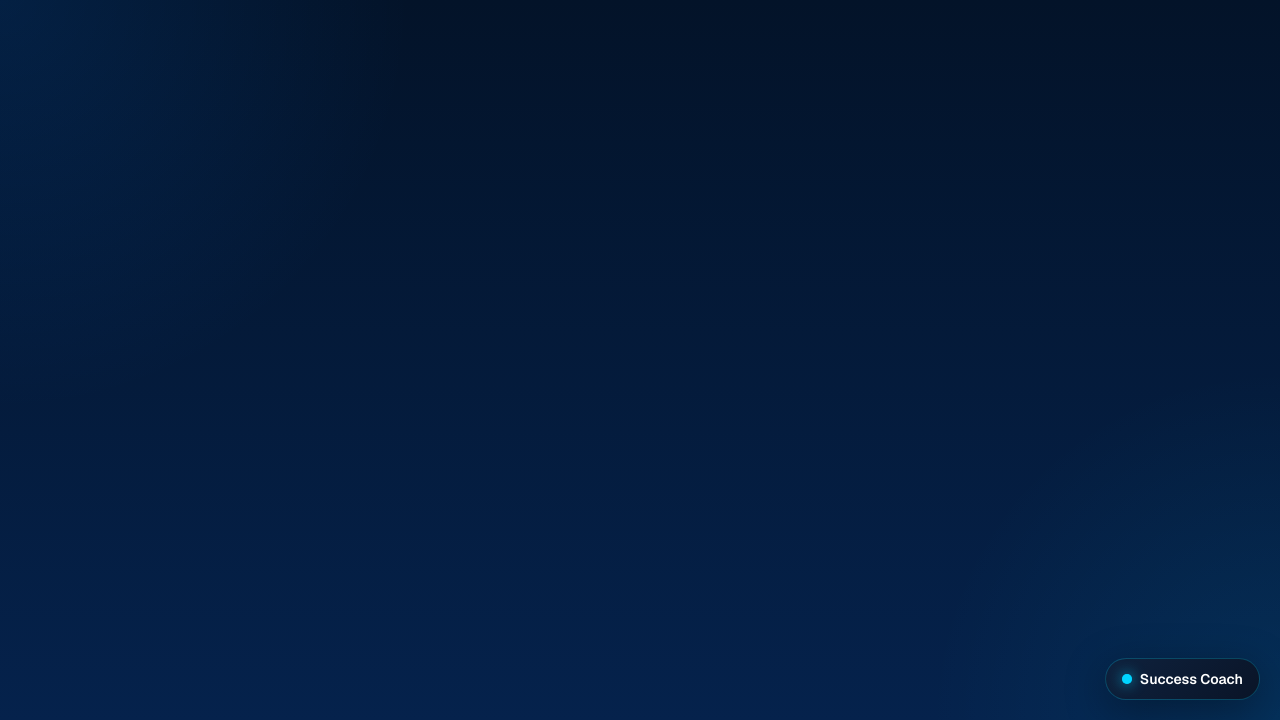
SuccessCoachDock › shows a friendly error with retry, and never sends the error text back to the model
Click the button "Success Coach" at (1182, 679), box [1105, 658, 1260, 700]
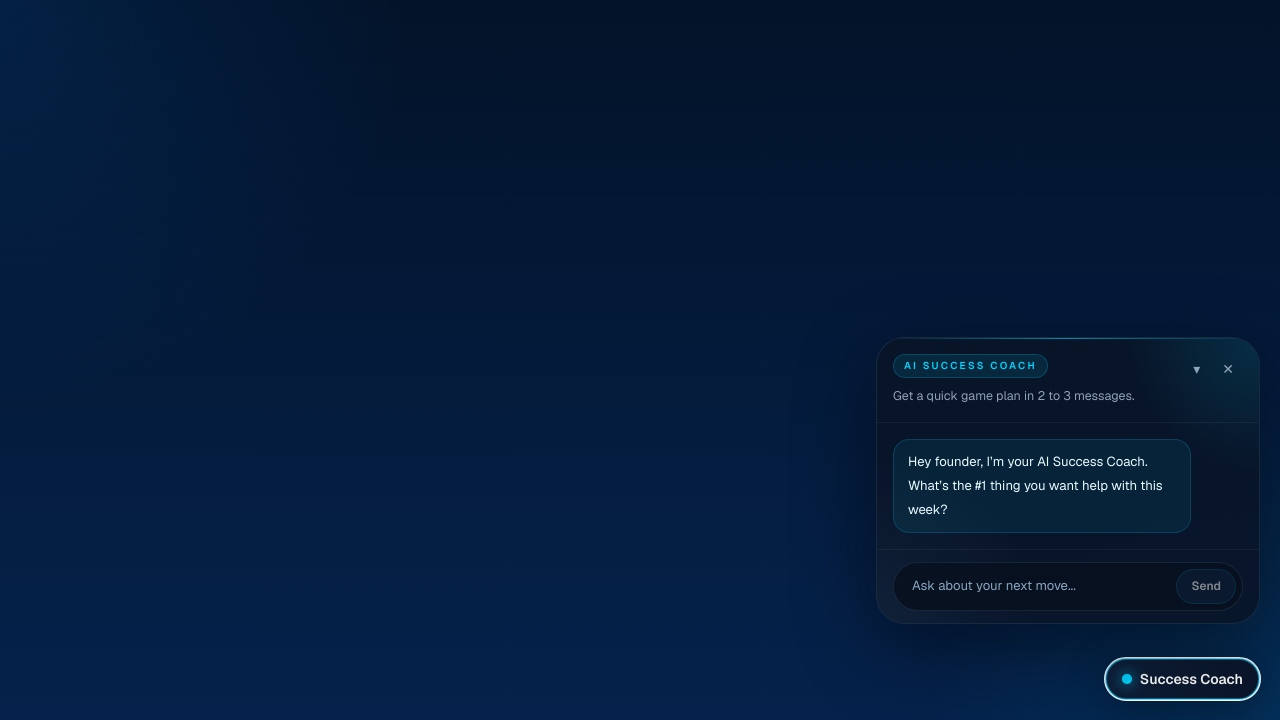
Type "Will this fail?" into the field named "Message your Success Coach" at (1034, 586), box [900, 571, 1168, 602]
Then press Enter
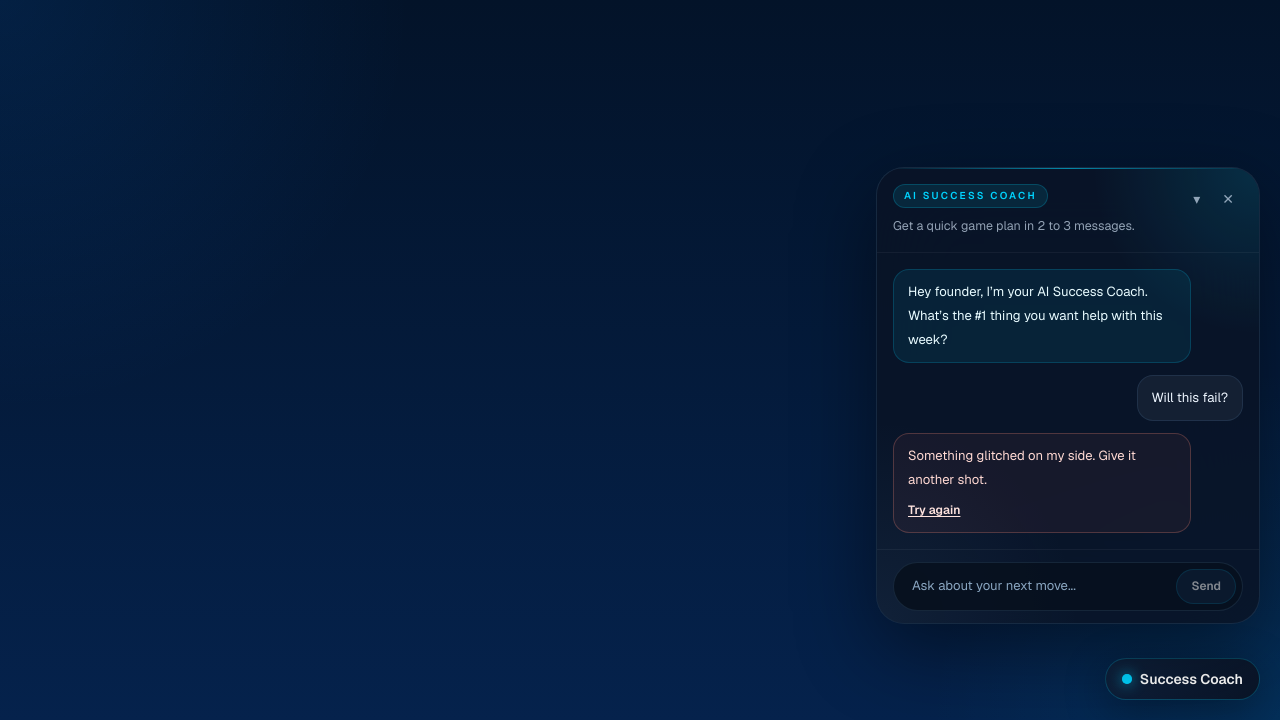
Expected: the message does not show "internal detail", [893, 433, 1243, 533]
Result: the message shows "Something glitched on my side" at [908, 447, 1136, 488]
Click the button "Try again" at (934, 510), box [908, 498, 960, 522]
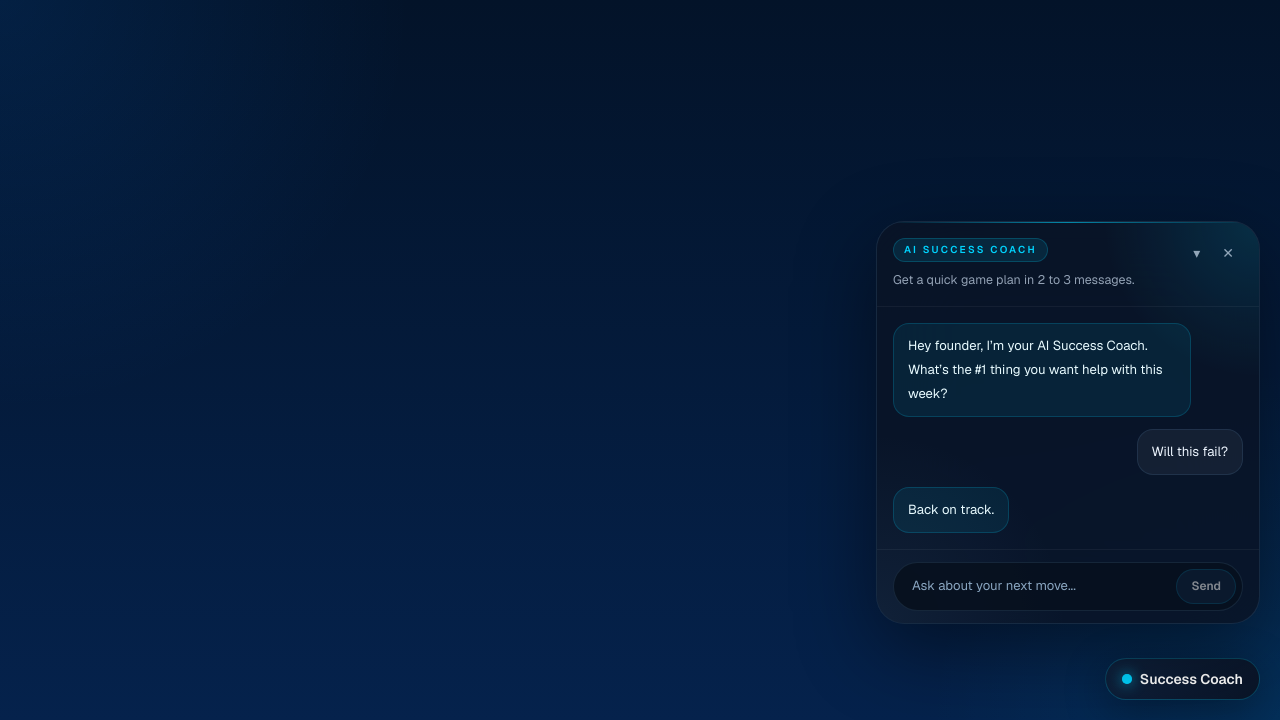
Result: the text "Back on track." is shown at [893, 487, 1009, 533]
Result: the message "Something glitched on my side. Give it another shot. Try again" is gone
